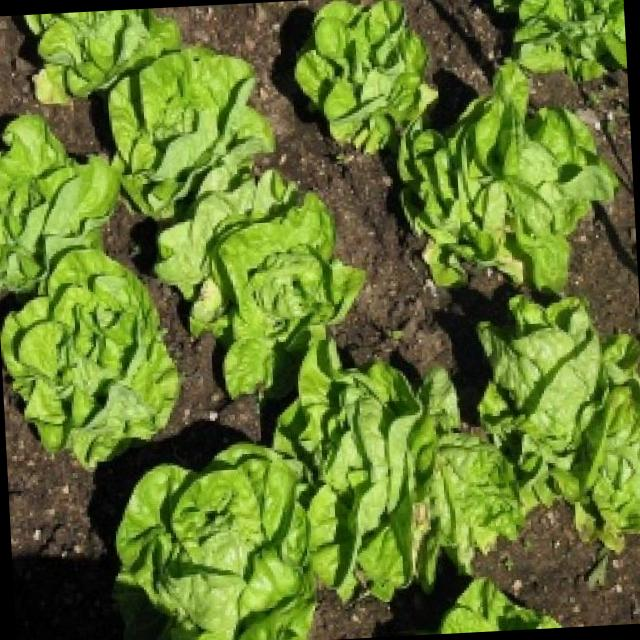Lettuce-Ready-to-Harvest: (274, 339, 522, 600), (398, 61, 617, 292), (157, 171, 364, 396), (479, 296, 640, 548), (0, 248, 179, 466), (117, 444, 316, 640), (110, 48, 272, 217), (296, 1, 437, 153), (0, 115, 119, 291), (27, 9, 180, 104), (515, 0, 627, 80)
